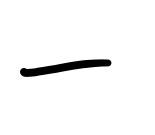minus: (20, 58, 111, 78)
